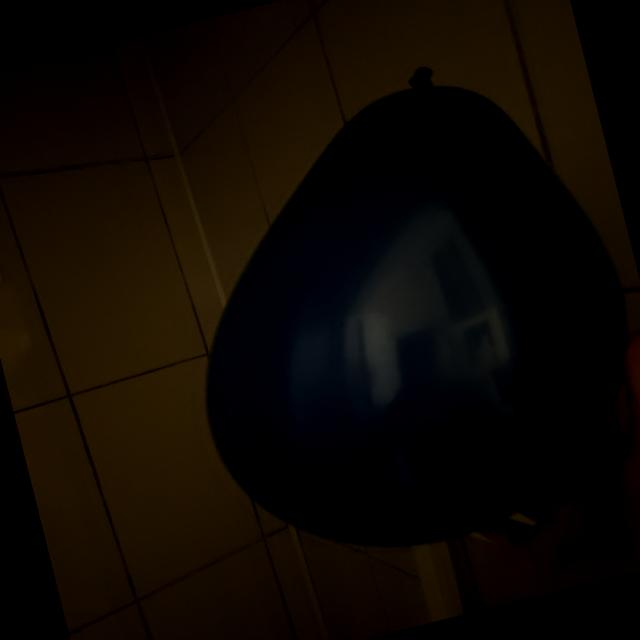balloon: (206, 69, 627, 545)
